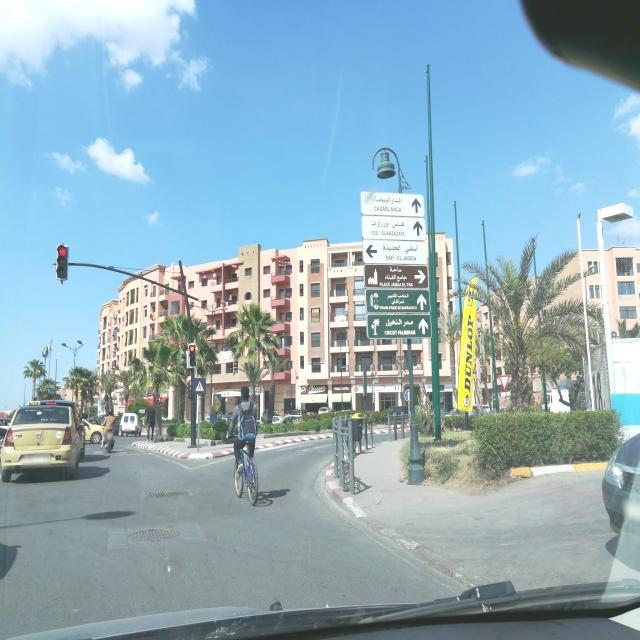bike: (228, 426, 261, 506), (102, 430, 117, 452)
car: (0, 399, 86, 483), (601, 425, 640, 545), (118, 413, 142, 437)
